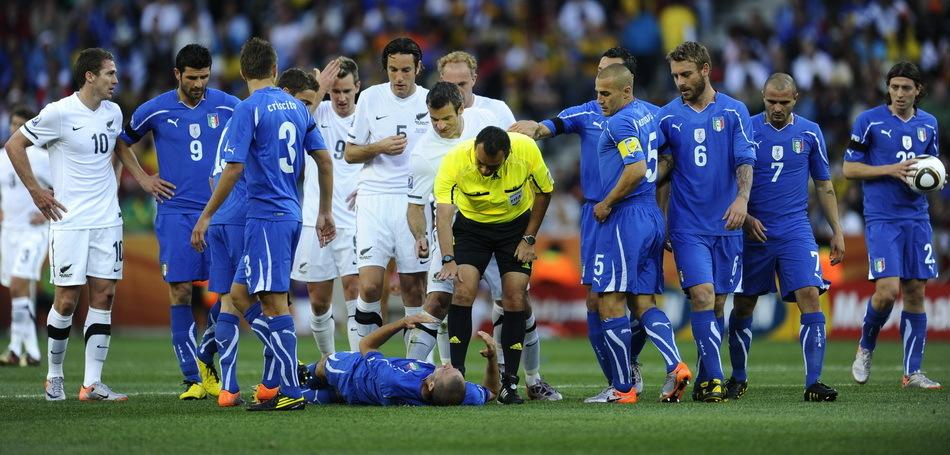bending: (430, 123, 555, 406)
down: (247, 327, 509, 410)
up: (219, 32, 319, 419), (658, 34, 755, 412), (738, 71, 843, 404), (846, 55, 950, 389), (582, 64, 682, 404), (37, 51, 129, 402), (149, 42, 224, 391), (404, 88, 498, 357), (356, 39, 434, 363), (291, 59, 373, 365), (1, 100, 51, 378)
